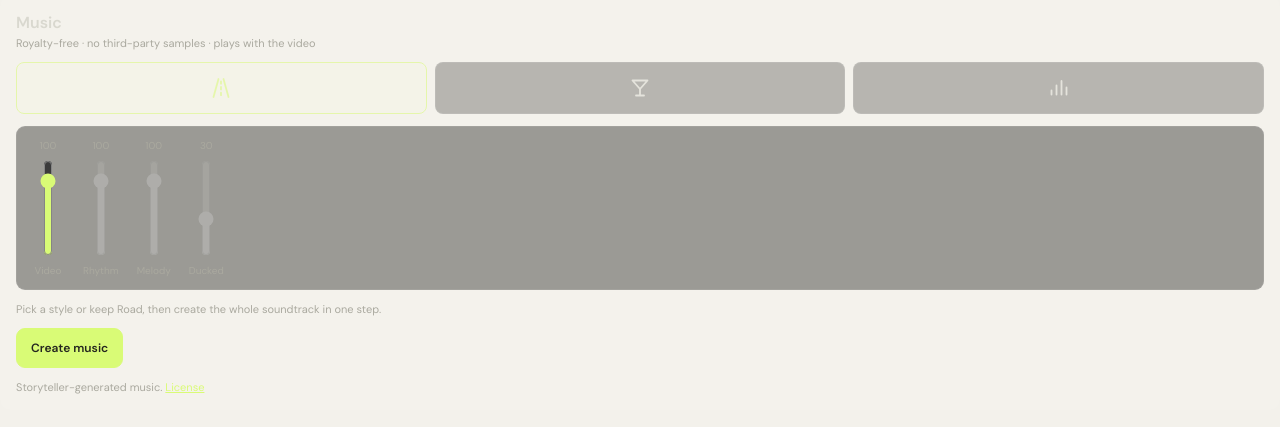
it: SoundtrackPanel › selects Road by default and creates the soundtrack with one button
This screenshot has width=1280, height=427.
Check: the radio button named "Road" is checked, box [16, 62, 427, 114]
Click the button "Create music".
click(70, 348)  # box [16, 328, 123, 368]
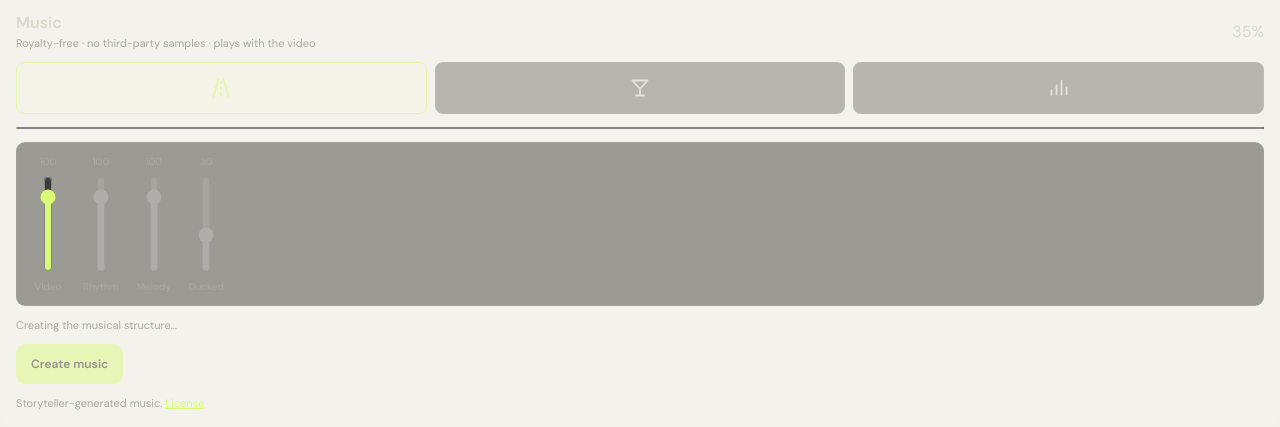
Check: the text "35%" is shown, box [1232, 20, 1264, 42]
